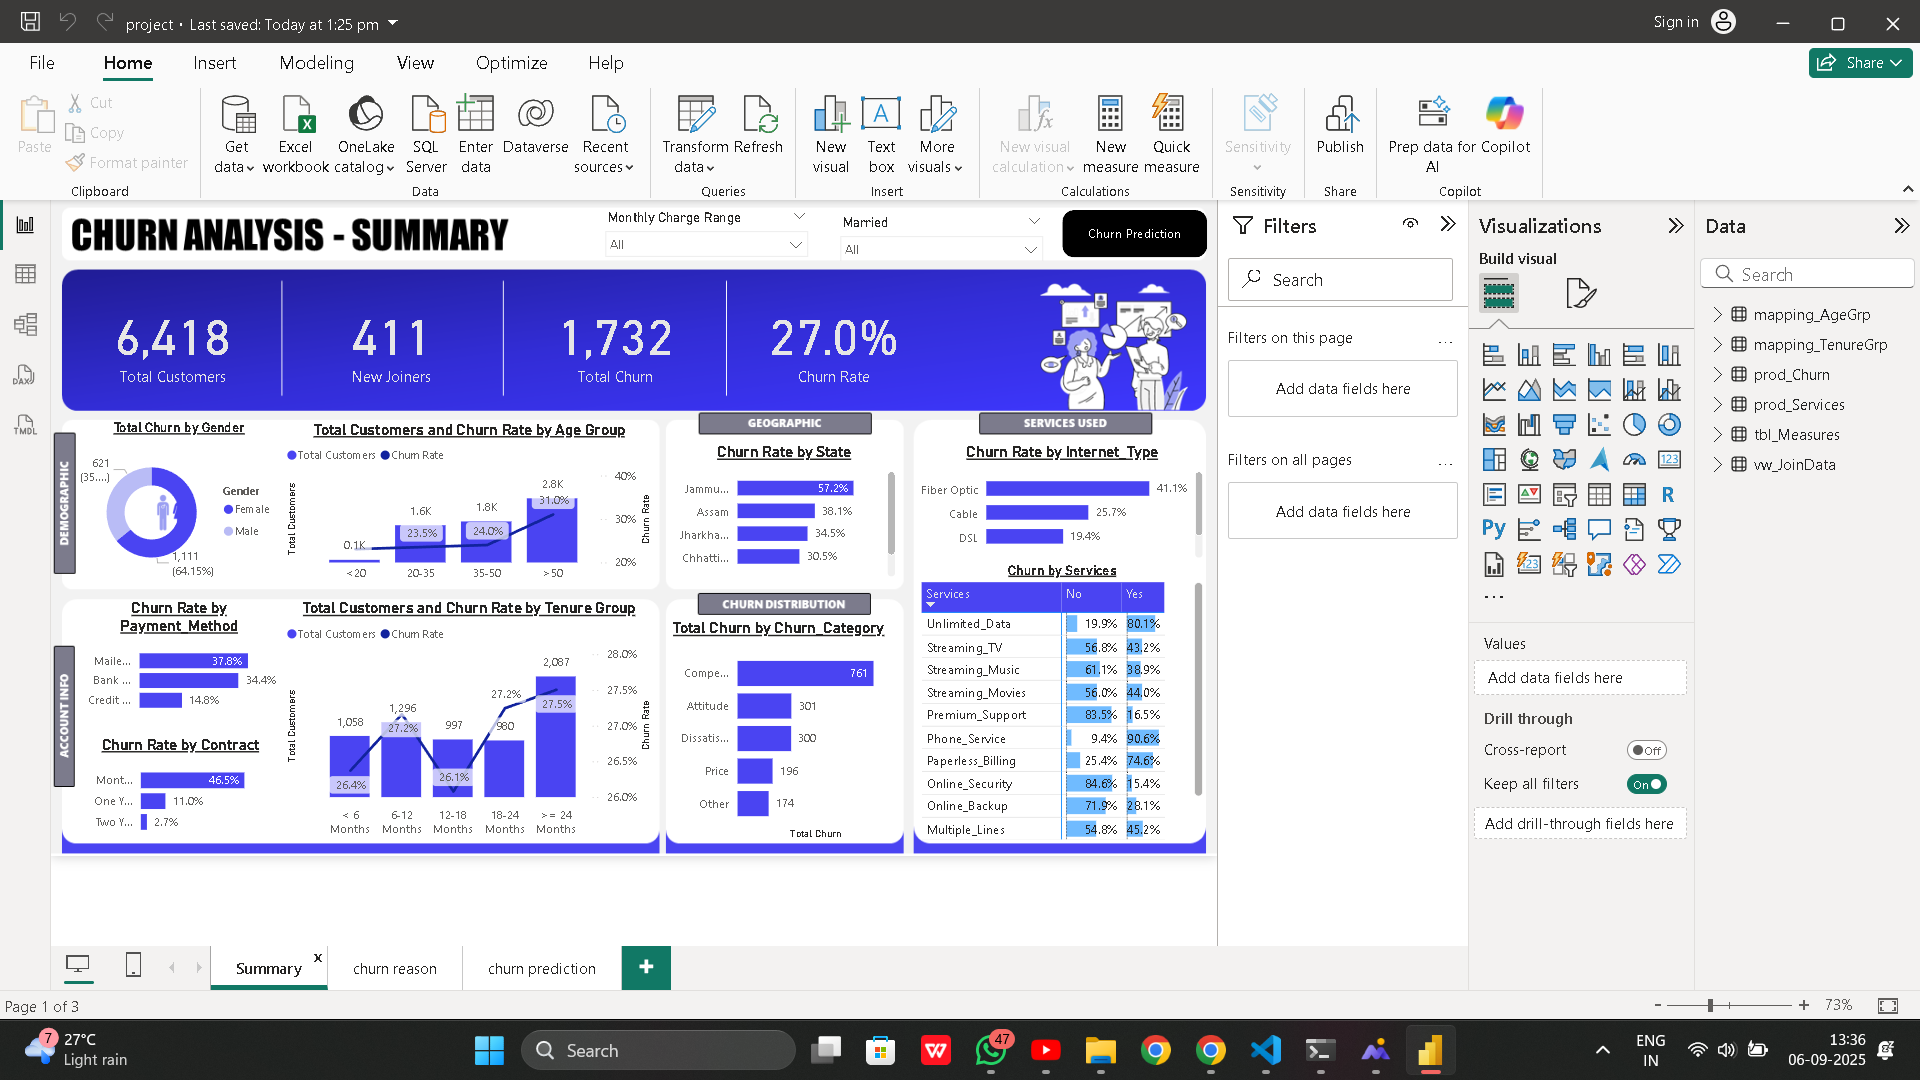

This screenshot's page, from the dashboard's own definition file:
{"tool":"powerbi","page":{"name":"Summary","canvas":[1280,720],"ordinal":0},"visuals":[{"type":"image","box":[100.2,312.9,67.2,59],"z":0},{"type":"card","fields":{"Values":["tbl_Measures.Total Customers"]},"box":[13.7,78.2,240.1,153.7],"z":1000},{"type":"card","fields":{"Values":["tbl_Measures.New Joiners"]},"box":[253.9,78.2,240,153.7],"z":2000},{"type":"card","fields":{"Values":["tbl_Measures.Total Churn"]},"box":[499.5,78.2,240.1,153.7],"z":3000},{"type":"card","fields":{"Values":["tbl_Measures.Churn Rate"]},"box":[739.6,78.2,240,153.7],"z":4000},{"type":"lineStackedColumnComboChart","fields":{"Category":["mapping_AgeGrp.Age Group"],"Y":["tbl_Measures.Total Customers"],"Y2":["tbl_Measures.Churn Rate"]},"box":[253.9,241.5,410.3,186.6],"z":5000},{"type":"clusteredBarChart","fields":{"Category":["prod_Churn.Payment_Method"],"Y":["tbl_Measures.Churn Rate"]},"box":[27.4,437.7,226.4,134.5],"z":6000},{"type":"clusteredBarChart","fields":{"Category":["prod_Churn.Contract"],"Y":["tbl_Measures.Churn Rate"]},"box":[28.8,587.3,226.4,119.4],"z":7000},{"type":"lineStackedColumnComboChart","fields":{"Category":["mapping_TenureGrp.Tenure Group"],"Y":["tbl_Measures.Total Customers"],"Y2":["tbl_Measures.Churn Rate"]},"box":[253.9,437.7,410.3,269],"z":8000},{"type":"clusteredBarChart","fields":{"Category":["prod_Churn.Churn_Category"],"Y":["tbl_Measures.Total Churn"]},"box":[677.9,459.7,253.9,247],"z":9000},{"type":"clusteredBarChart","fields":{"Category":["prod_Churn.Internet_Type"],"Y":["tbl_Measures.Churn Rate"]},"box":[950.9,266.2,318.4,131.7],"z":10000},{"type":"pivotTable","title":"Churn by Services","fields":{"Rows":["prod_Services.Services"],"Columns":["prod_Services.Status"],"Values":["Sum(prod_Services.Churn Status)"]},"box":[950.9,397.9,318.4,308.7],"z":11000},{"type":"slicer","fields":{"Values":["prod_Churn.Monthly Charge Status"]},"box":[598.3,5.5,242.9,61.7],"z":12000},{"type":"slicer","fields":{"Values":["prod_Churn.Married"]},"box":[856.3,11,242.9,56.3],"z":13000},{"type":"donutChart","fields":{"Y":["tbl_Measures.Total Churn"],"Category":["prod_Churn.Gender"]},"box":[27.4,241.5,226.4,186.6],"z":14000},{"type":"clusteredBarChart","fields":{"Category":["prod_Churn.State"],"Y":["tbl_Measures.Churn Rate"]},"box":[677.9,266.2,253.9,152.3],"z":15000},{"type":"shape","box":[1110.1,11,159.2,52.1],"z":15001}]}

Visuals, with their boxes on the page's 1280x720 design canvas (x1, y1, x2, y2). These are canvas units, not pixel positions in the 1920x1080 screenshot, which may show the page scaled, cropped or inside an application window:
image: (left=100, top=313, right=167, bottom=372)
card - tbl_Measures.Total Customers: (left=14, top=78, right=254, bottom=232)
card - tbl_Measures.New Joiners: (left=254, top=78, right=494, bottom=232)
card - tbl_Measures.Total Churn: (left=500, top=78, right=740, bottom=232)
card - tbl_Measures.Churn Rate: (left=740, top=78, right=980, bottom=232)
lineStackedColumnComboChart - mapping_AgeGrp.Age Group x tbl_Measures.Total Customers: (left=254, top=242, right=664, bottom=428)
clusteredBarChart - prod_Churn.Payment_Method x tbl_Measures.Churn Rate: (left=27, top=438, right=254, bottom=572)
clusteredBarChart - prod_Churn.Contract x tbl_Measures.Churn Rate: (left=29, top=587, right=255, bottom=707)
lineStackedColumnComboChart - mapping_TenureGrp.Tenure Group x tbl_Measures.Total Customers: (left=254, top=438, right=664, bottom=707)
clusteredBarChart - prod_Churn.Churn_Category x tbl_Measures.Total Churn: (left=678, top=460, right=932, bottom=707)
clusteredBarChart - prod_Churn.Internet_Type x tbl_Measures.Churn Rate: (left=951, top=266, right=1269, bottom=398)
"Churn by Services" pivotTable: (left=951, top=398, right=1269, bottom=707)
slicer - prod_Churn.Monthly Charge Status: (left=598, top=6, right=841, bottom=67)
slicer - prod_Churn.Married: (left=856, top=11, right=1099, bottom=67)
donutChart - tbl_Measures.Total Churn x prod_Churn.Gender: (left=27, top=242, right=254, bottom=428)
clusteredBarChart - prod_Churn.State x tbl_Measures.Churn Rate: (left=678, top=266, right=932, bottom=418)
shape: (left=1110, top=11, right=1269, bottom=63)
